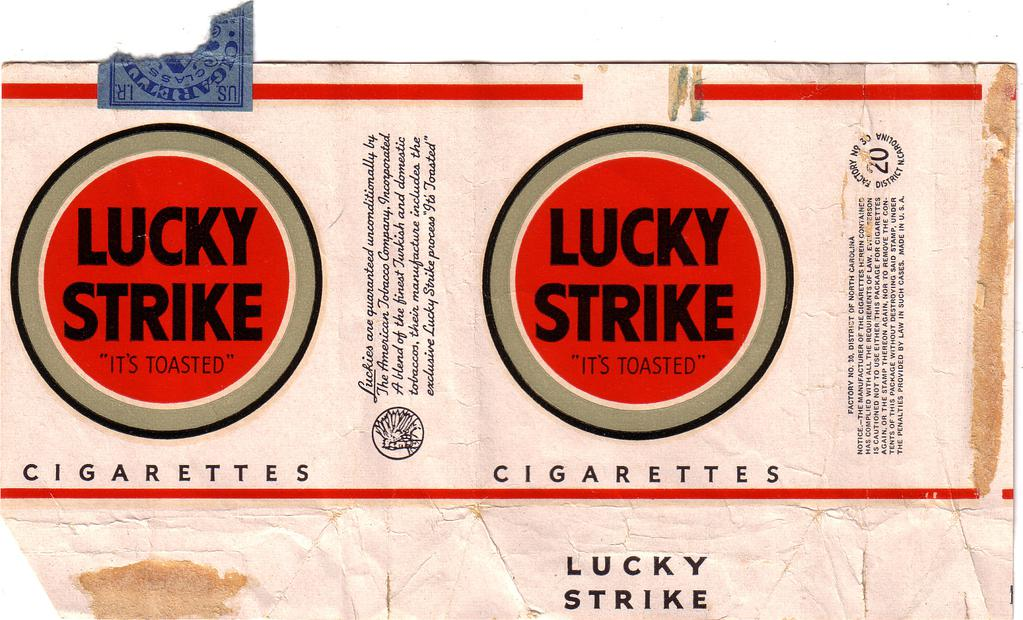lucky_strike_red: (455, 63, 805, 532), (1, 63, 338, 535)
